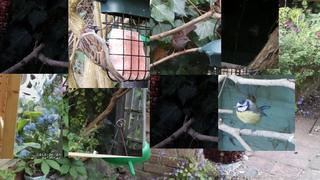blue tit: (233, 99, 271, 135)
dunnock: (171, 24, 197, 58)
sparrow: (79, 24, 126, 84)
